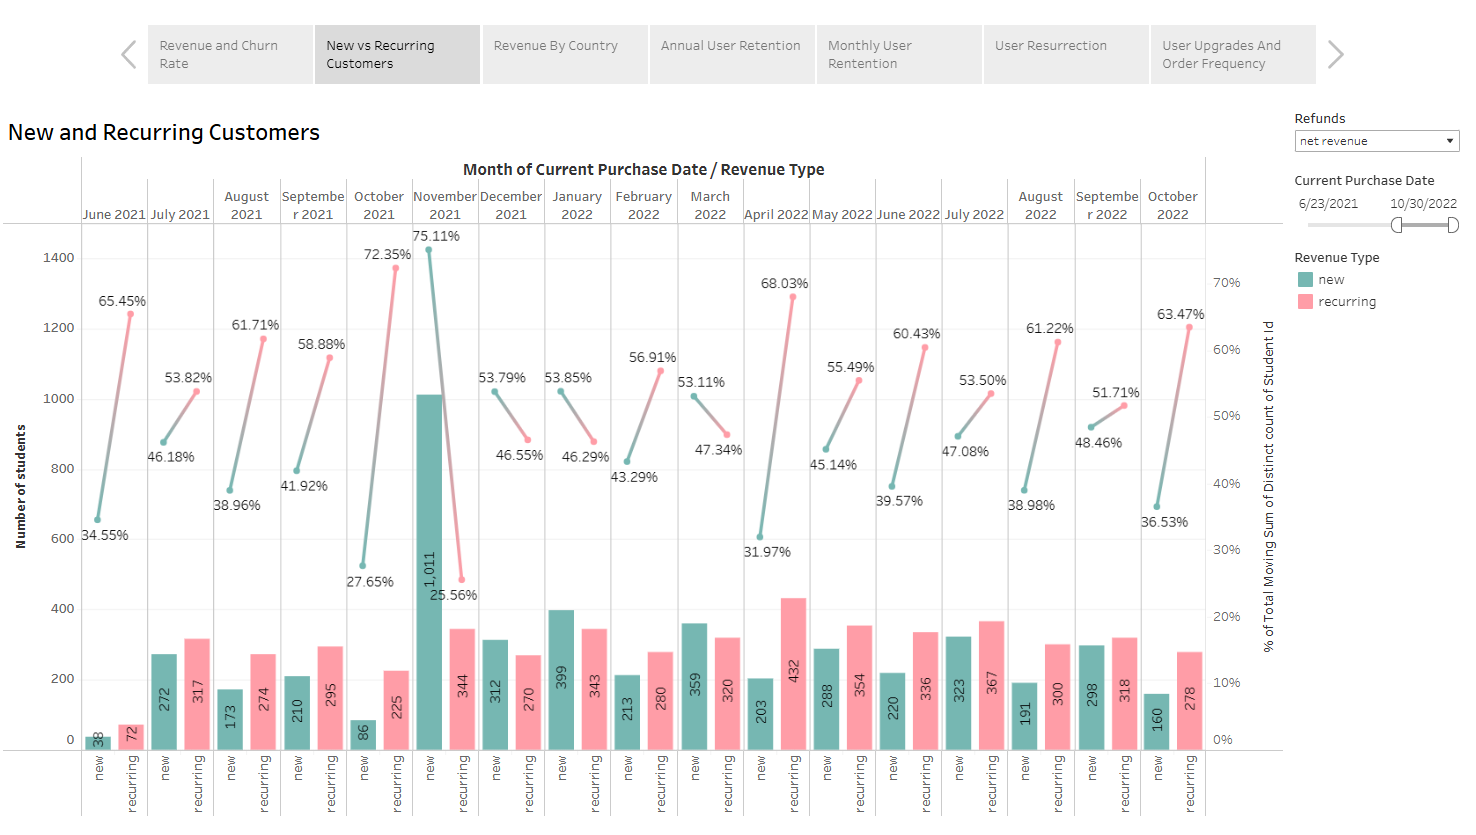

The dashboard page shown, as its layout file describes it:
{"tool":"tableau","page":{"name":"New vs Recurring Customers D","canvas":[1350,667],"ordinal":0},"visuals":[{"type":"worksheet","title":"New and Recurring Customers","mark":"Bar","rows":["student_id"],"cols":["current_purchase_date","revenue_type"],"box":[8,8,1174,651]},{"type":"filter","title":"New and Recurring Customers","param":"[federated.103k3fl0dgmcf912g1tpi17h8gps].[none:refunds:nk]","box":[1182,8,160,52]},{"type":"filter","title":"New and Recurring Customers","param":"[federated.103k3fl0dgmcf912g1tpi17h8gps].[none:current_purchase_date:qk]","box":[1182,60,160,69]},{"type":"legend","title":"New and Recurring Customers","param":"[federated.103k3fl0dgmcf912g1tpi17h8gps].[none:revenue_type:nk]","box":[1182,129,160,66]}]}

Visuals, with their boxes on the page's 1350x667 design canvas (x1, y1, x2, y2). These are canvas units, not pixel positions in the 1476x835 screenshot, which may show the page scaled, cropped or inside an application window:
"New and Recurring Customers" worksheet (Bar marks): (8,8,1182,659)
"New and Recurring Customers" filter: (1182,8,1342,60)
"New and Recurring Customers" filter: (1182,60,1342,129)
"New and Recurring Customers" legend: (1182,129,1342,195)
